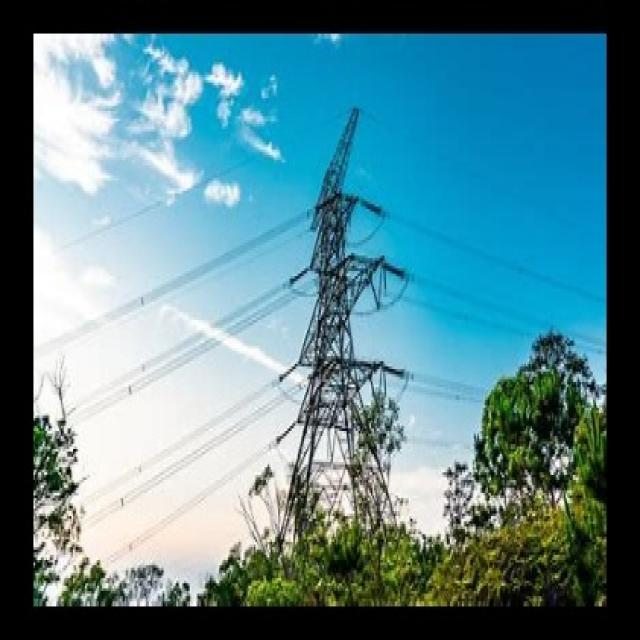utility poles: (465, 264, 587, 456), (329, 372, 422, 518)
